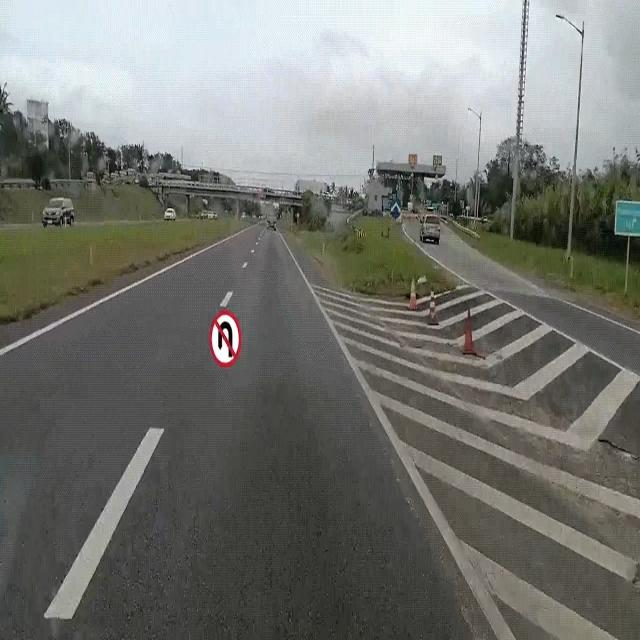Demi-Tour-Interdit: (207, 300, 245, 372)
